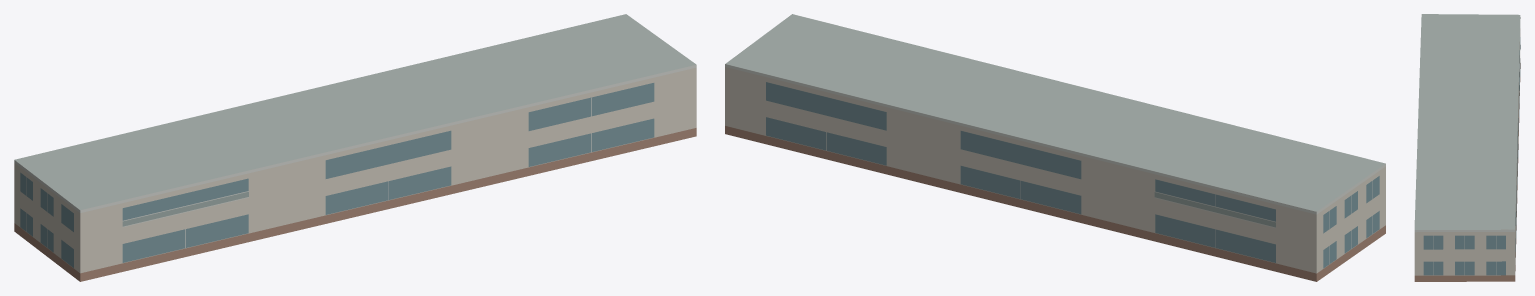
File: survey-upis-32869125.glb
3 views of the same model, side by side, from view 1: azimuth 30°, elevation 25°; view 2: azimuth 150°, elevation 25°; view 3: azimuth 270°, elevation 25° (orthographic). The views are drawn at different scales.
Parts seen in each view (by area): view 1: survey-upis-32869125.tmp; view 2: survey-upis-32869125.tmp; view 3: survey-upis-32869125.tmp.
Part boxes in pixels (x1=…): survey-upis-32869125.tmp: x1=14, y1=14, x2=696, y2=281; survey-upis-32869125.tmp: x1=725, y1=14, x2=1385, y2=281; survey-upis-32869125.tmp: x1=1414, y1=14, x2=1520, y2=281.
Size of the model in its own units: 54.51 by 6.1 by 11.31.
